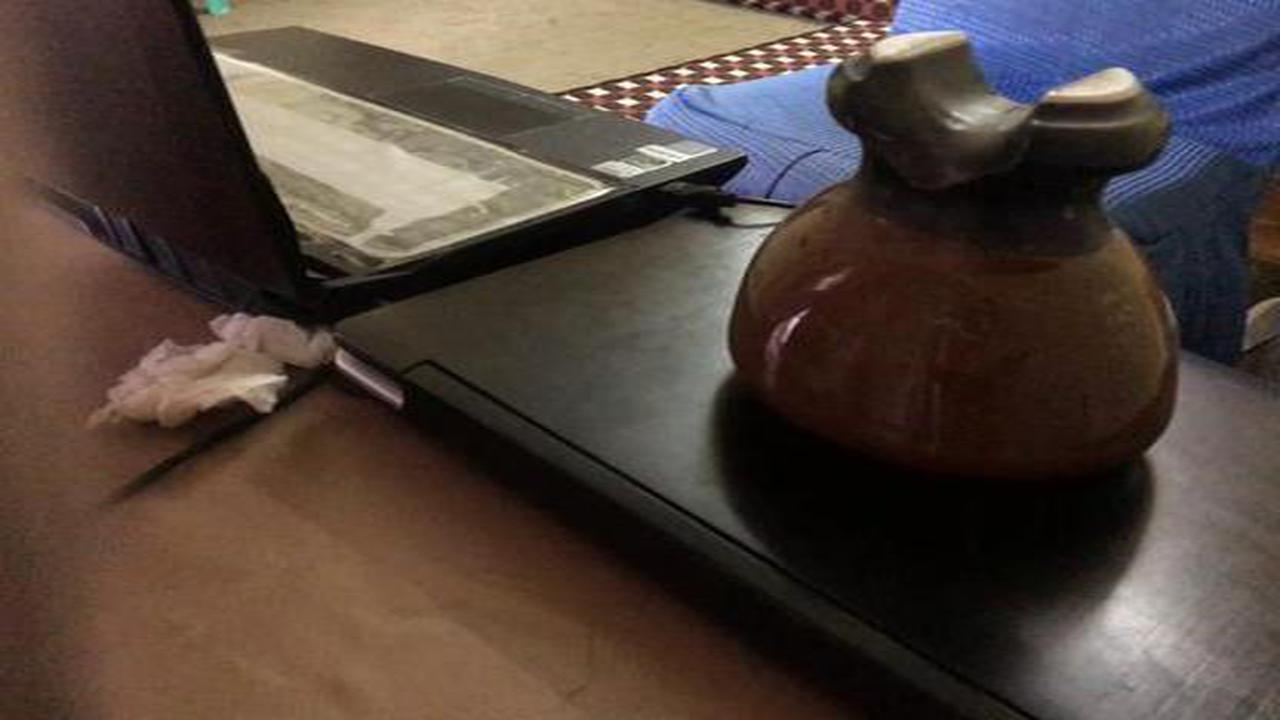insulator_pin: (708, 22, 1201, 509)
